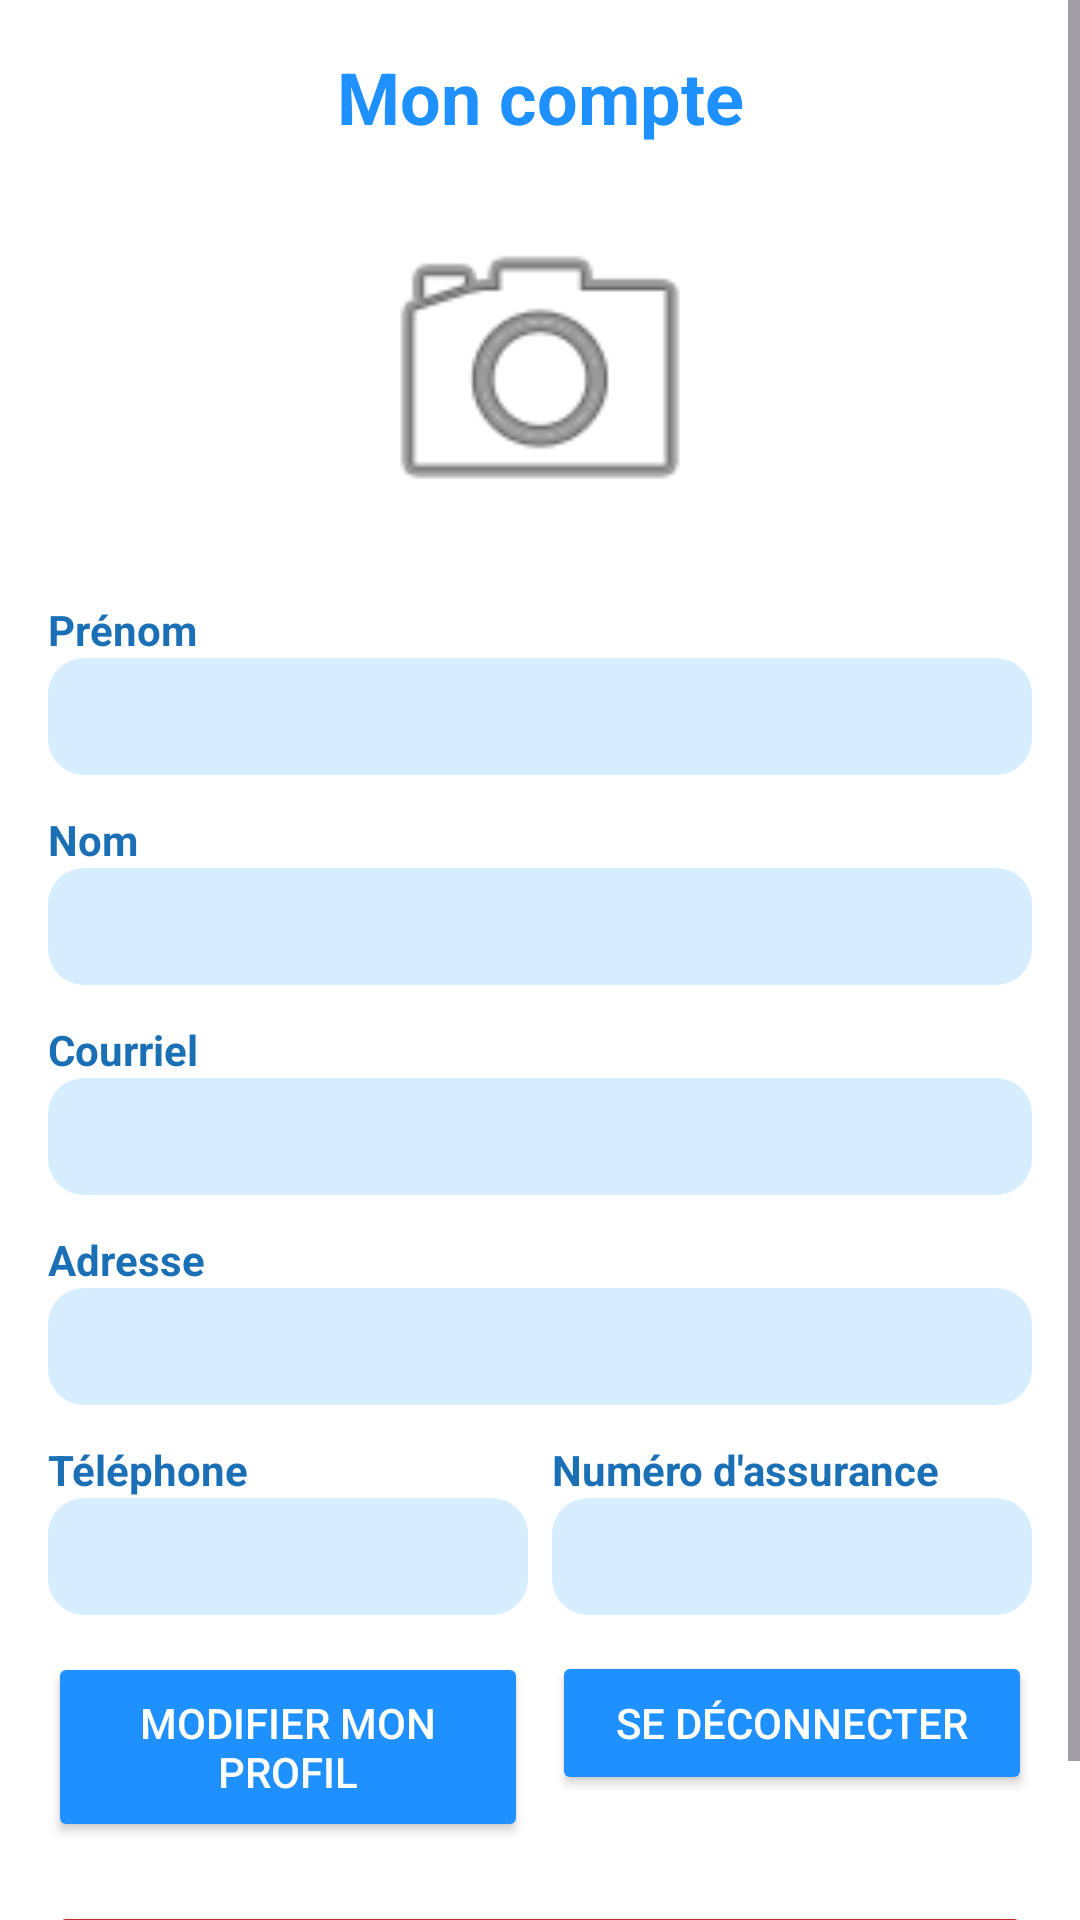

Point at icon controls on the screen. Image size 1080x1920, points as (x,y).
camera: (540,367)
